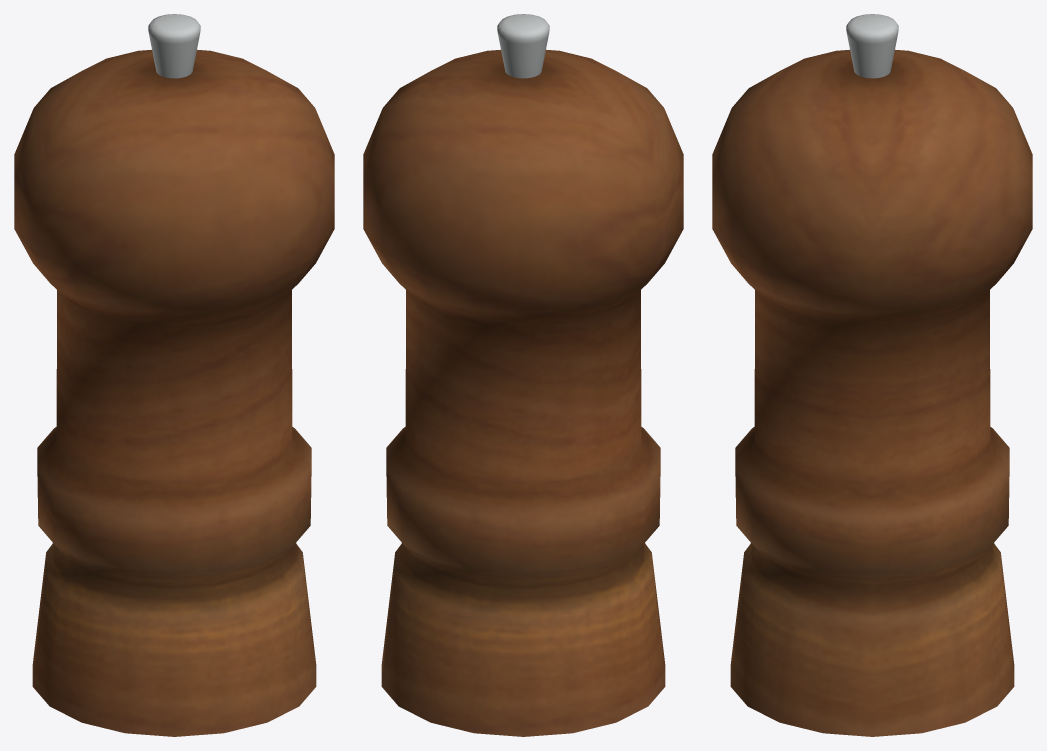
Rendered from GardenTableWear01_4.FBX.
The picture shows the model from 3 angles, left to right: view 1: azimuth 30°, elevation 25°; view 2: azimuth 150°, elevation 25°; view 3: azimuth 270°, elevation 25°; orthographic projection.
Visible parts, largest first — view 1: GardenTableWear01_4; view 2: GardenTableWear01_4; view 3: GardenTableWear01_4.
Part boxes in pixels (x1=…): GardenTableWear01_4: x1=14, y1=14, x2=334, y2=736; GardenTableWear01_4: x1=363, y1=14, x2=683, y2=736; GardenTableWear01_4: x1=712, y1=14, x2=1032, y2=736.
Size of what is drawn, in the model's own units: 0.0939 by 0.2086 by 0.0924.
